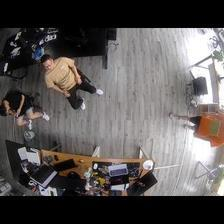normal: (41, 55, 101, 109), (170, 105, 224, 147)
